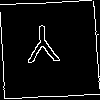Y: (24, 24, 61, 73)
